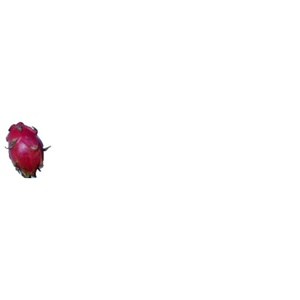pitaia: (6, 122, 48, 179)
